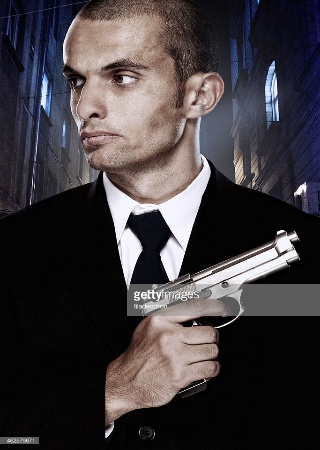handgun: (134, 227, 298, 399)
